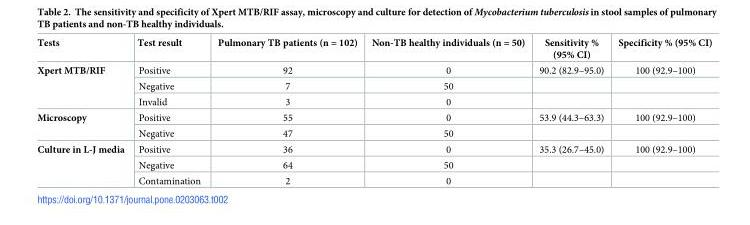table: (36, 37, 711, 185)
table column: (363, 37, 531, 185), (208, 37, 363, 185), (610, 37, 711, 185), (36, 37, 130, 185), (531, 37, 610, 185), (130, 37, 208, 185)
table column header: (36, 37, 711, 62)
table row: (36, 37, 711, 62), (36, 62, 711, 78), (36, 93, 711, 109), (36, 109, 711, 125), (36, 125, 711, 141), (36, 141, 711, 157), (36, 78, 711, 93), (36, 157, 711, 172), (36, 172, 711, 185)
table spanning cell: (36, 62, 130, 109), (36, 141, 130, 185), (36, 109, 130, 141)
